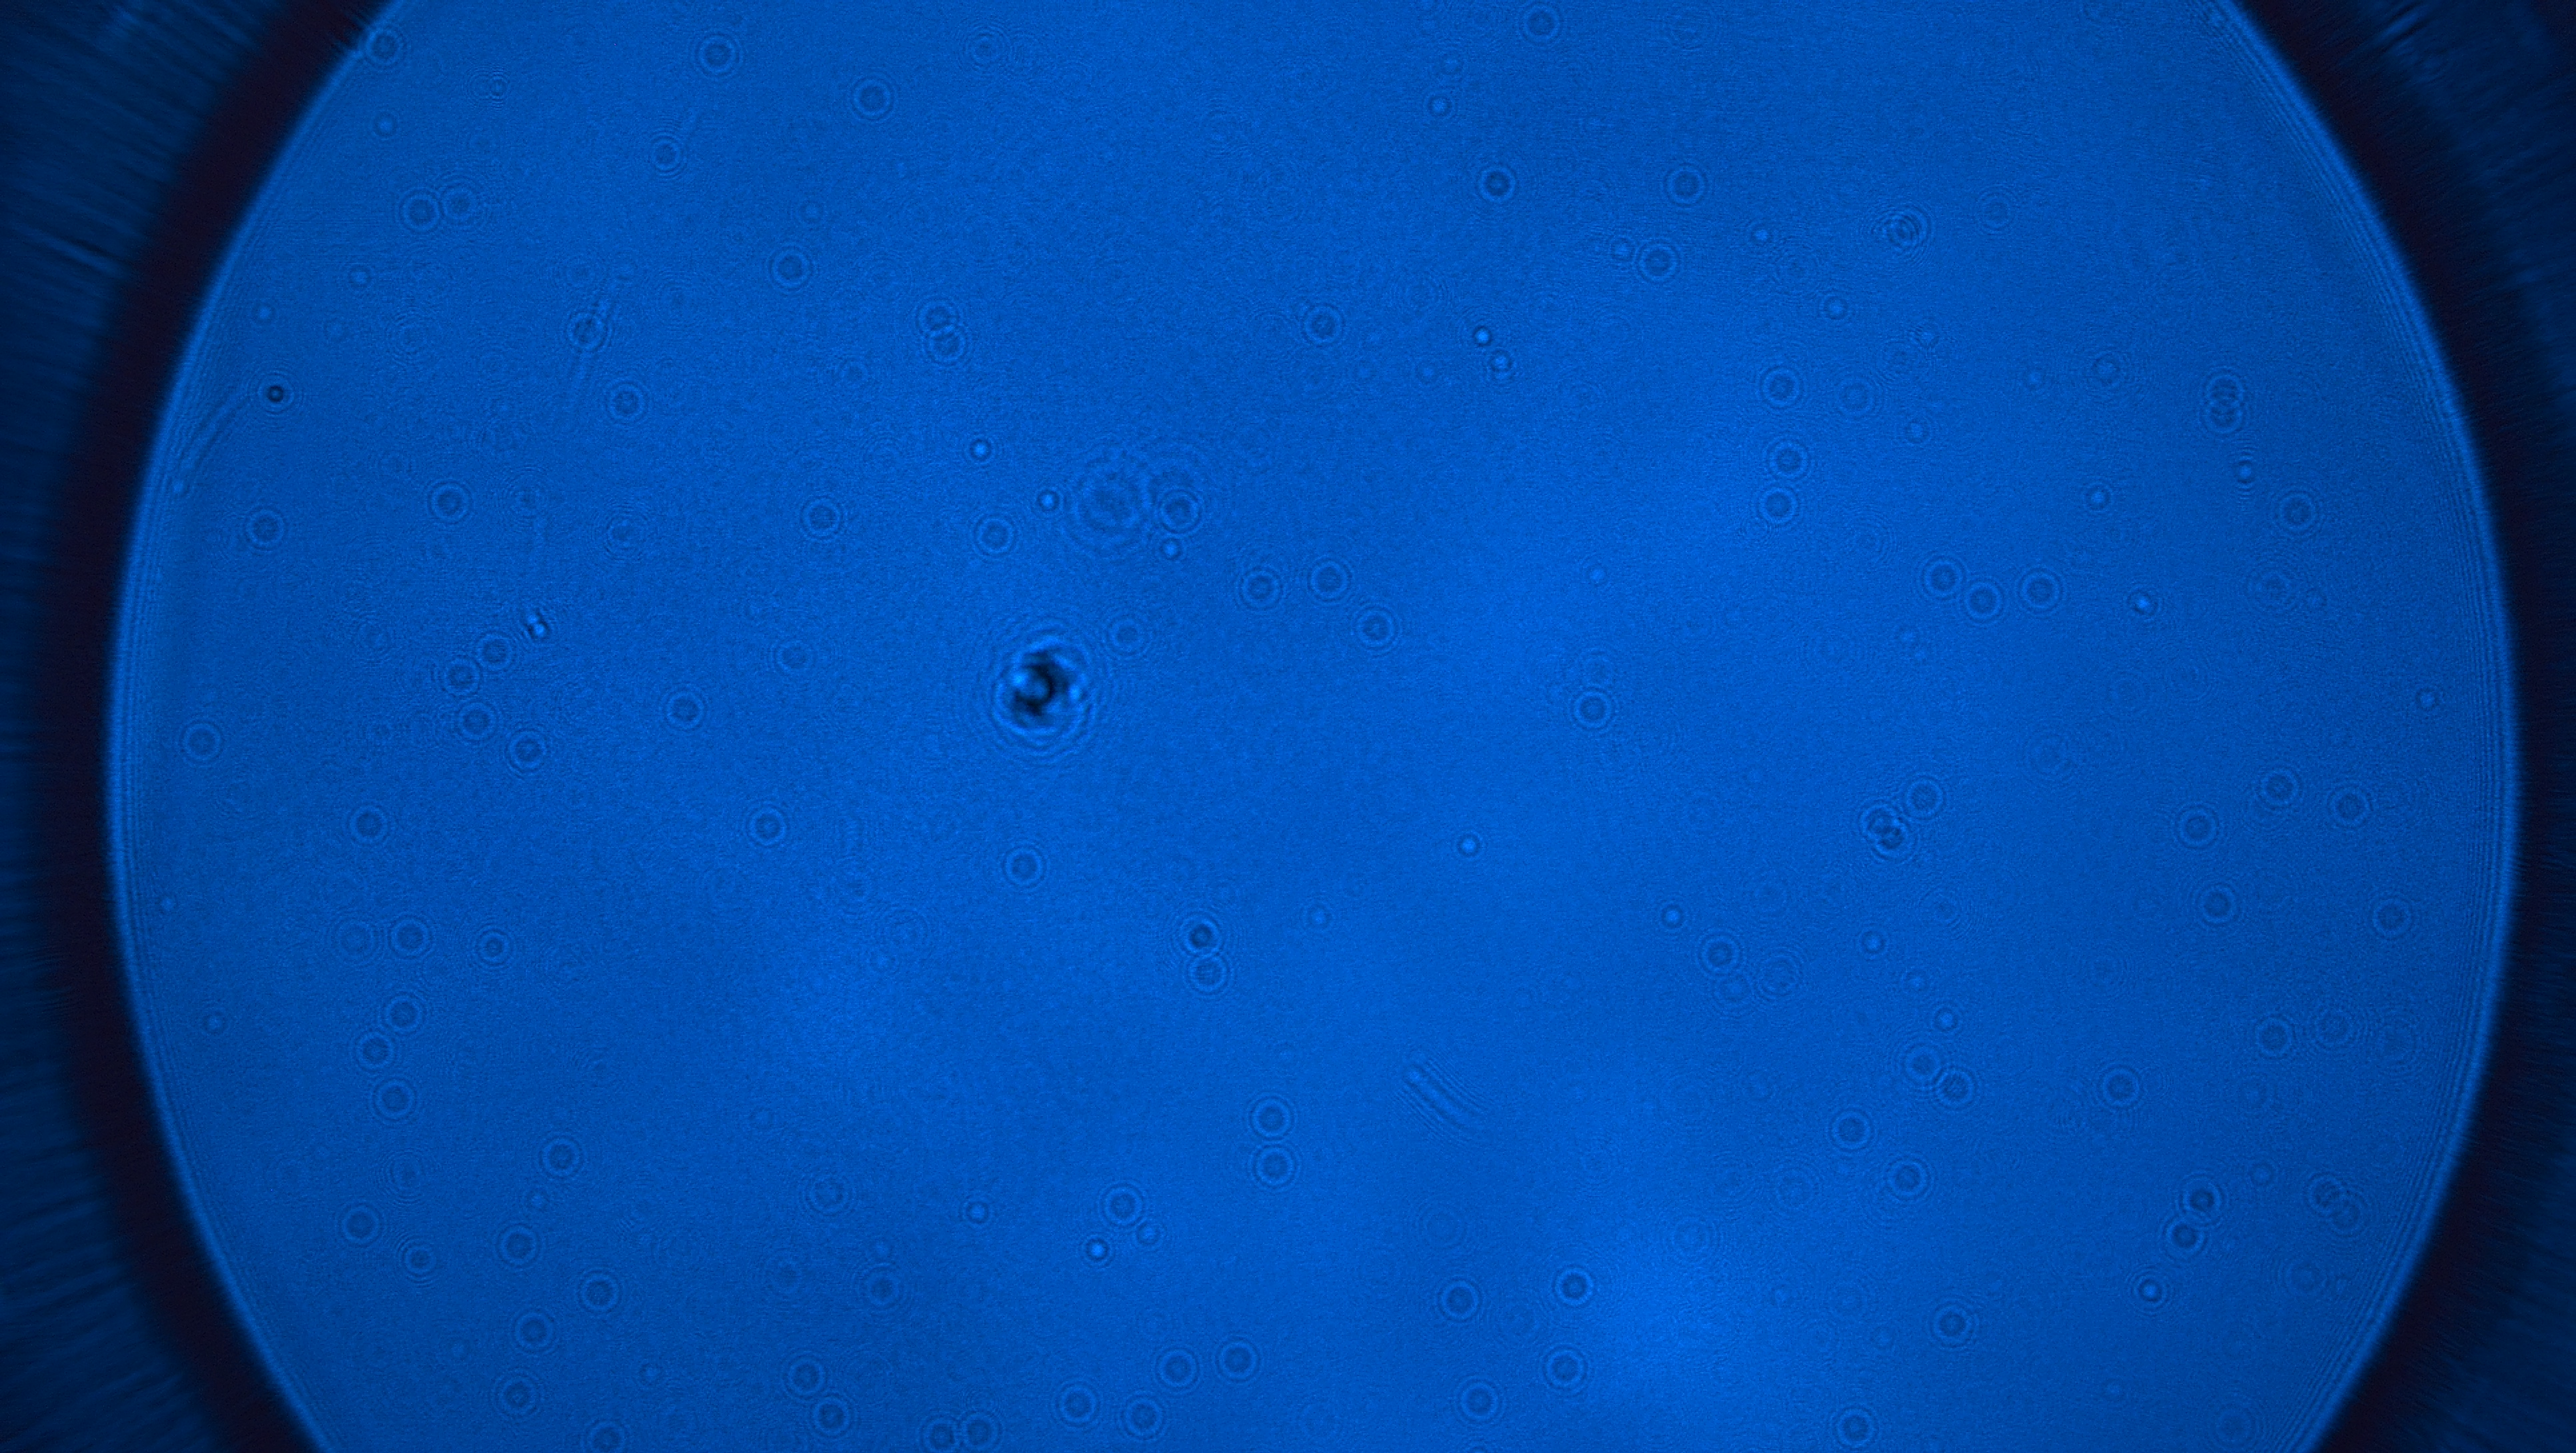bead: (455, 913, 531, 982), (1932, 1065, 2006, 1129), (366, 1072, 435, 1140), (679, 27, 755, 85), (731, 796, 805, 855), (334, 793, 400, 855), (594, 379, 665, 435), (1819, 1396, 1890, 1453), (418, 469, 479, 533), (994, 835, 1058, 897), (1210, 1324, 1269, 1391), (527, 1124, 589, 1186), (655, 683, 717, 745), (1463, 154, 1529, 212), (1444, 1372, 1509, 1430), (1426, 1269, 1491, 1327), (1532, 1340, 1599, 1396), (170, 710, 230, 772), (2167, 796, 2227, 858), (1920, 1299, 1989, 1352), (757, 235, 817, 296), (488, 1219, 550, 1278), (2245, 1009, 2309, 1065), (1741, 480, 1808, 533), (842, 69, 902, 127), (1879, 1149, 1939, 1207), (2013, 559, 2075, 616), (1246, 1143, 1309, 1198), (962, 503, 1021, 561), (1690, 922, 1748, 980), (1040, 1375, 1100, 1432), (1560, 683, 1624, 736), (1292, 296, 1348, 354), (329, 1198, 389, 1253), (1116, 1393, 1178, 1446), (1097, 1166, 1150, 1228), (571, 1262, 628, 1318), (2095, 1058, 2151, 1115), (1819, 1104, 1881, 1156), (793, 488, 847, 545), (2123, 1267, 2178, 1324), (235, 503, 295, 554), (446, 697, 506, 749), (341, 1026, 403, 1076), (773, 1350, 833, 1400), (2189, 881, 2249, 931), (502, 722, 556, 777), (1752, 361, 1808, 412), (1300, 554, 1357, 605), (1244, 1088, 1302, 1138), (1235, 565, 1290, 616), (506, 1308, 563, 1357), (1909, 554, 1967, 602), (1152, 1342, 1203, 1395), (922, 322, 973, 375), (809, 1391, 863, 1441), (1660, 159, 1714, 209), (389, 189, 446, 237), (1509, 4, 1573, 46), (1633, 230, 1681, 287), (1962, 575, 2008, 632), (1759, 434, 1815, 478), (430, 653, 483, 699), (1553, 1262, 1603, 1310), (1897, 1037, 1944, 1085), (913, 1407, 962, 1453), (474, 625, 520, 673), (387, 910, 430, 961), (957, 1407, 1010, 1446)
